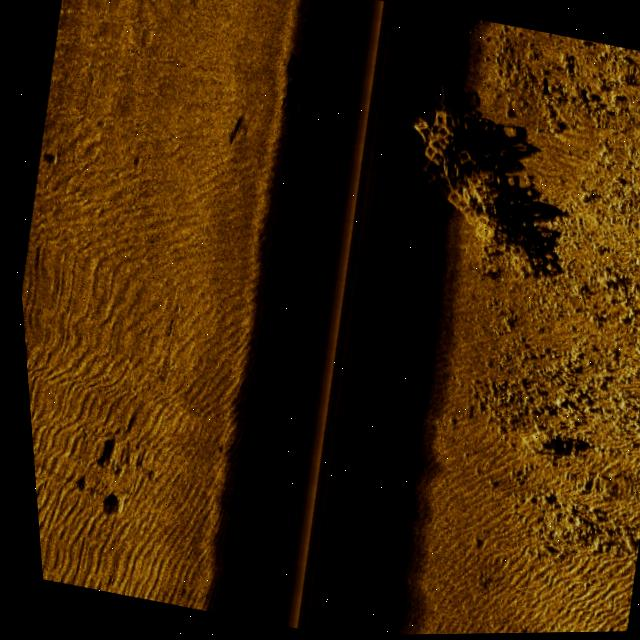artificial reef: (385, 70, 581, 281), (275, 39, 356, 147)
